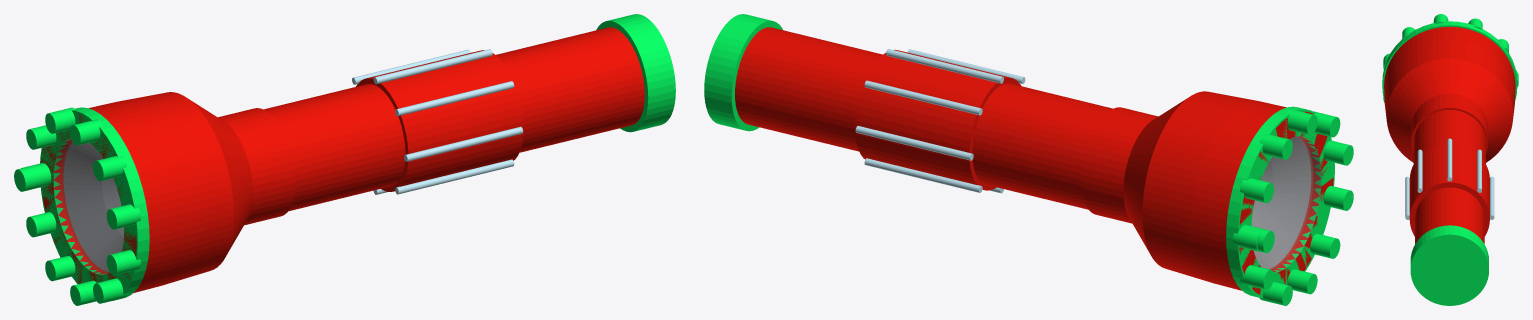
File: Technology_Flashlight__0555.glb
The picture shows the model from 3 angles, left to right: view 1: azimuth 30°, elevation 25°; view 2: azimuth 150°, elevation 25°; view 3: azimuth 270°, elevation 25°; orthographic projection. The views are drawn at different scales.
Visible parts, largest first — view 1: focus_head::head_shell, body::tail_seg, body::mid_seg, body::grip_seg, focus_head::lens_disc, focus_head::front_bezel_ring, body::lip_seg, focus_head::reflector, body::tail_cap, body::shoulder_shell, body::grip_knurl_3, body::grip_knurl_4 (+14 smaller); view 2: focus_head::head_shell, body::tail_seg, body::mid_seg, body::grip_seg, focus_head::lens_disc, focus_head::front_bezel_ring, body::lip_seg, focus_head::reflector, body::tail_cap, body::shoulder_shell, body::grip_knurl_1, body::grip_knurl_0 (+15 smaller); view 3: body::shoulder_shell, body::tail_cap, focus_head::head_shell, body::grip_seg, body::tail_seg, body::mid_seg, body::lip_seg, focus_head::front_bezel_ring, body::grip_knurl_2, body::grip_knurl_3, body::grip_knurl_1, body::grip_knurl_4 (+3 smaller).
Boxes of the visible parts, <box> form: focus_head::head_shell: <box>41,92,233,293</box>; body::tail_seg: <box>496,27,644,152</box>; body::mid_seg: <box>263,84,405,211</box>; body::grip_seg: <box>356,50,523,191</box>; focus_head::lens_disc: <box>54,138,123,274</box>; focus_head::front_bezel_ring: <box>40,107,149,300</box>; body::lip_seg: <box>218,108,295,225</box>; focus_head::reflector: <box>63,142,123,271</box>; body::tail_cap: <box>596,14,675,132</box>; body::shoulder_shell: <box>189,99,253,254</box>; body::grip_knurl_3: <box>395,81,514,116</box>; body::grip_knurl_4: <box>404,126,523,161</box>; focus_head::head_shell: <box>1142,91,1333,294</box>; body::tail_seg: <box>735,27,882,151</box>; body::mid_seg: <box>972,83,1112,209</box>; body::grip_seg: <box>855,49,1021,190</box>; focus_head::lens_disc: <box>1251,136,1320,272</box>; focus_head::front_bezel_ring: <box>1226,106,1334,298</box>; body::lip_seg: <box>1081,107,1158,223</box>; focus_head::reflector: <box>1251,136,1311,268</box>; body::tail_cap: <box>704,14,782,131</box>; body::shoulder_shell: <box>1123,99,1185,252</box>; body::grip_knurl_1: <box>864,80,982,115</box>; body::grip_knurl_0: <box>855,126,973,160</box>; body::shoulder_shell: <box>1386,58,1512,162</box>; body::tail_cap: <box>1410,225,1488,305</box>; focus_head::head_shell: <box>1384,27,1515,118</box>; body::grip_seg: <box>1409,144,1489,236</box>; body::tail_seg: <box>1415,187,1484,243</box>; body::mid_seg: <box>1413,110,1485,163</box>; body::lip_seg: <box>1411,93,1488,153</box>; focus_head::front_bezel_ring: <box>1382,21,1517,101</box>; body::grip_knurl_2: <box>1447,138,1452,181</box>; body::grip_knurl_3: <box>1417,149,1422,192</box>; body::grip_knurl_1: <box>1477,149,1481,192</box>; body::grip_knurl_4: <box>1405,176,1409,219</box>.
Size of the model in its own units: 0.2956 by 0.0868 by 0.0867.
Materials: 6 (2 with a texture image).
